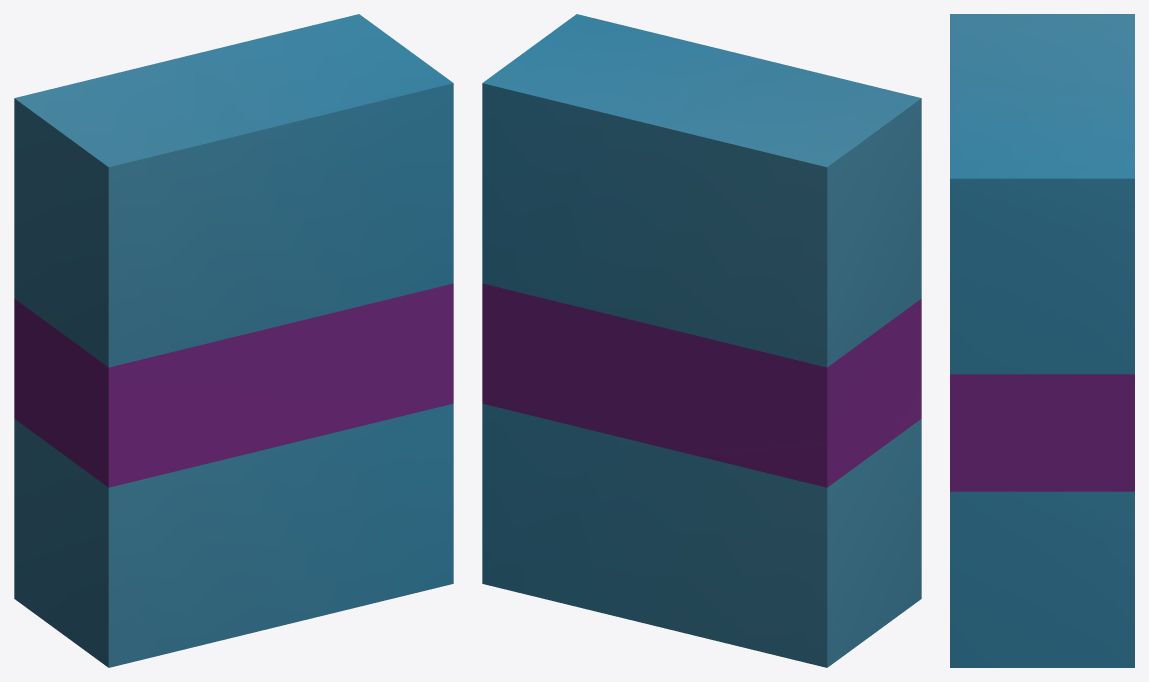
File: Ürün53.fbx
3 views of the same model, side by side, from view 1: azimuth 30°, elevation 25°; view 2: azimuth 150°, elevation 25°; view 3: azimuth 270°, elevation 25° (orthographic). The views are drawn at different scales.
Visible parts, largest first — view 1: pCube89; view 2: pCube89; view 3: pCube89.
Part boxes in pixels (x1,y1,x2,y2): pCube89: (14, 14, 453, 667); pCube89: (482, 14, 921, 667); pCube89: (950, 14, 1134, 667).
Bounding box in the file's own units: 23.51 × 32.6 × 11.16.
